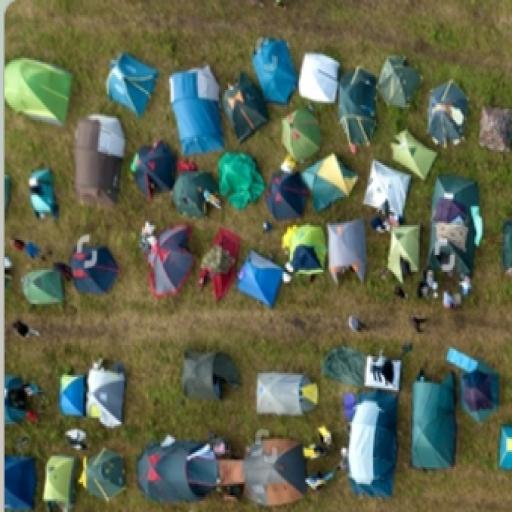tent: (171, 70, 226, 157), (103, 51, 157, 120), (252, 41, 300, 108), (238, 248, 286, 308), (54, 371, 87, 421)
